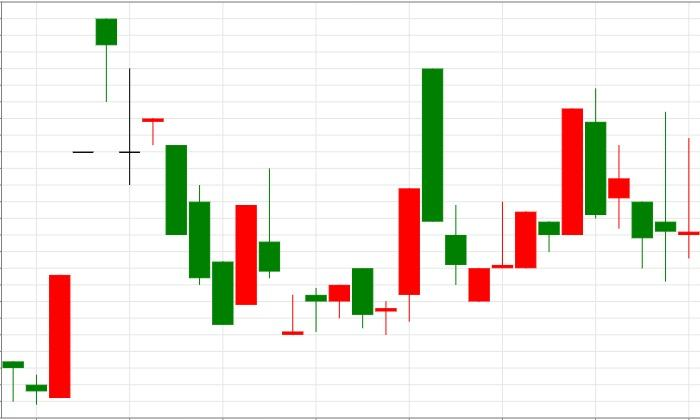hanging_man_fall: (3, 17, 117, 405)
